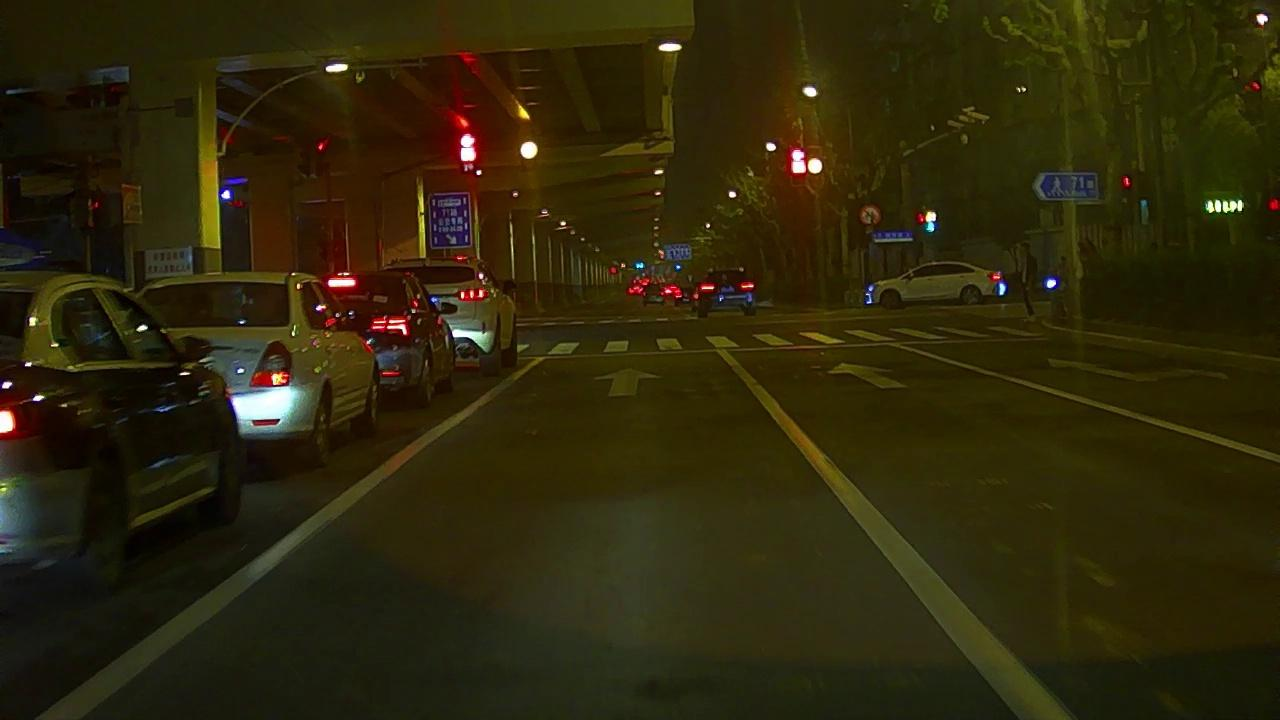traffic_light: (807, 146, 823, 186), (459, 135, 474, 164), (519, 142, 539, 160), (792, 152, 805, 175)
